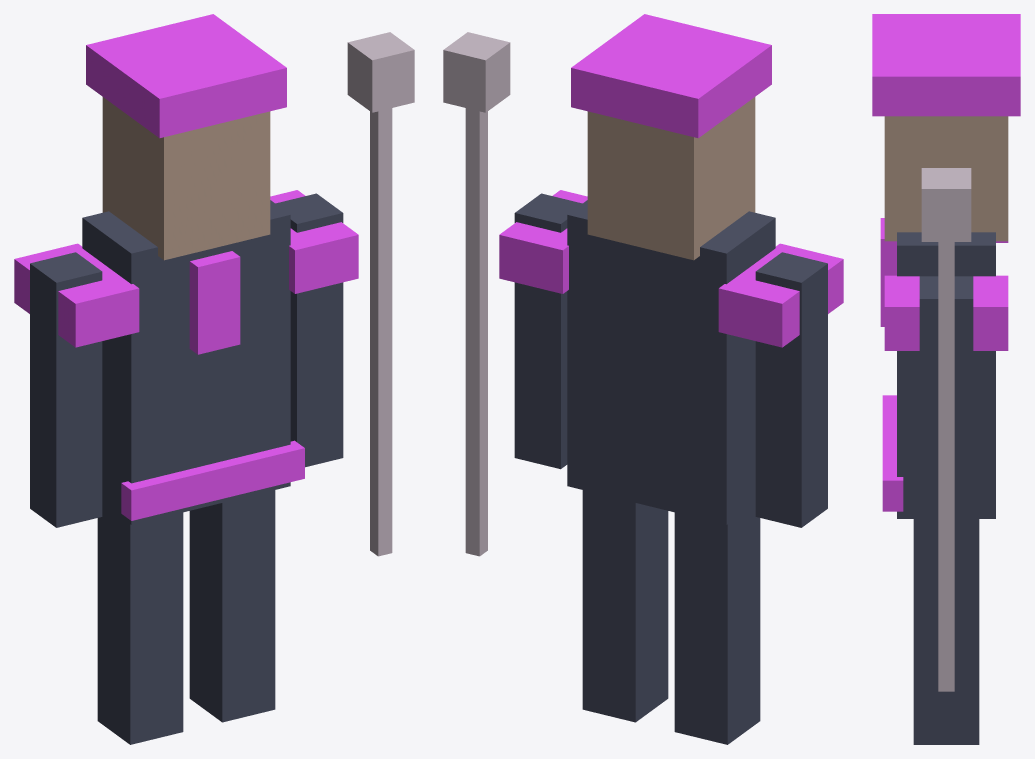
The model's file is 08_mirek_mossguard_sentinel_from_toll.glb.
3 views of the same model, side by side, from view 1: azimuth 30°, elevation 25°; view 2: azimuth 150°, elevation 25°; view 3: azimuth 270°, elevation 25° (orthographic).
Parts seen in each view (by area): view 1: Mirek Mossguard, Sentinel from Toll; view 2: Mirek Mossguard, Sentinel from Toll; view 3: Mirek Mossguard, Sentinel from Toll.
Part boxes in pixels (x1,y1,x2,y2): Mirek Mossguard, Sentinel from Toll: (14,14,414,744); Mirek Mossguard, Sentinel from Toll: (443,14,843,744); Mirek Mossguard, Sentinel from Toll: (872,14,1020,744).
Bounding box in the file's own units: 0.9451 × 1.66 × 0.3352.
